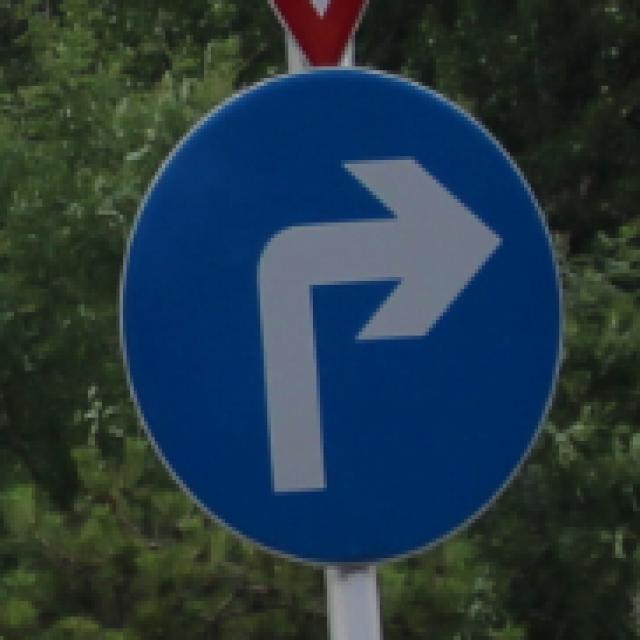Right: (117, 61, 563, 574)
